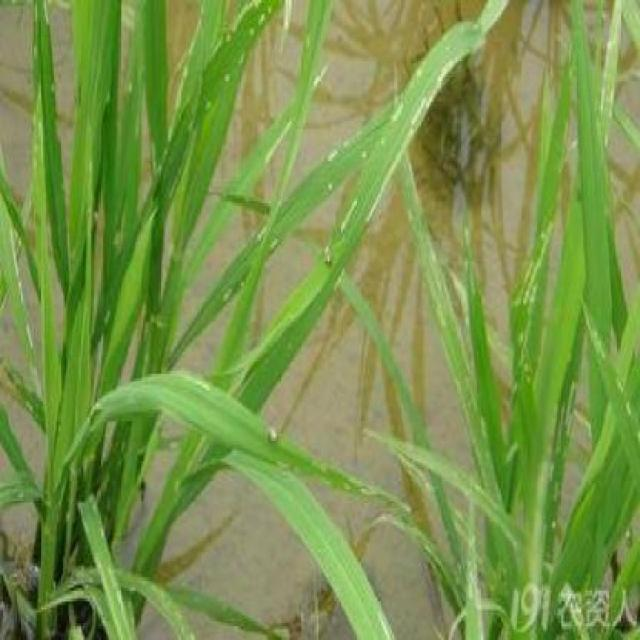rice-bug: (321, 237, 337, 272), (267, 422, 279, 446)
